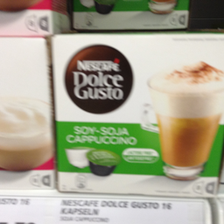coffee: (47, 32, 224, 193)
